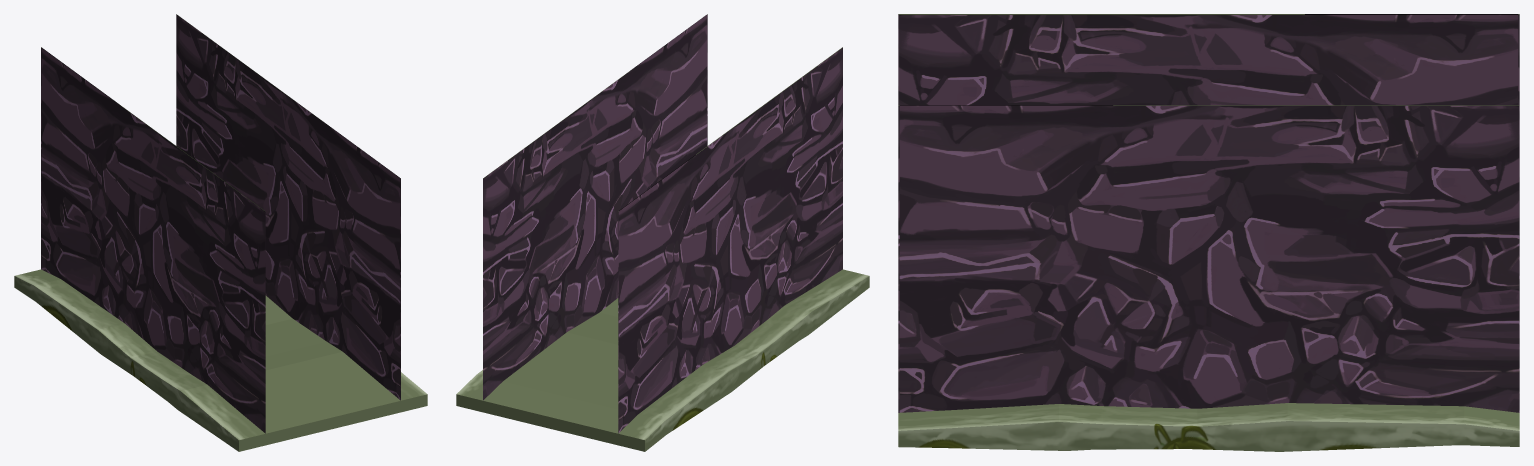
Rendered from tt_forest_midpiece_long.FBX.
3 renders of one model, left to right at view 1: azimuth 30°, elevation 25°; view 2: azimuth 150°, elevation 25°; view 3: azimuth 270°, elevation 25°, orthographic. The views are drawn at different scales.
Visible parts, largest first — view 1: tt_forest_midpiece_long; view 2: tt_forest_midpiece_long; view 3: tt_forest_midpiece_long.
Part boxes in pixels (box(x1,y1,x2,y2)): tt_forest_midpiece_long: box(14, 14, 427, 451); tt_forest_midpiece_long: box(456, 14, 869, 451); tt_forest_midpiece_long: box(898, 14, 1519, 451).
Size of the model in its own units: 144 by 173 by 296.
